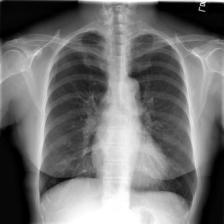normal: (35, 26, 201, 218)
